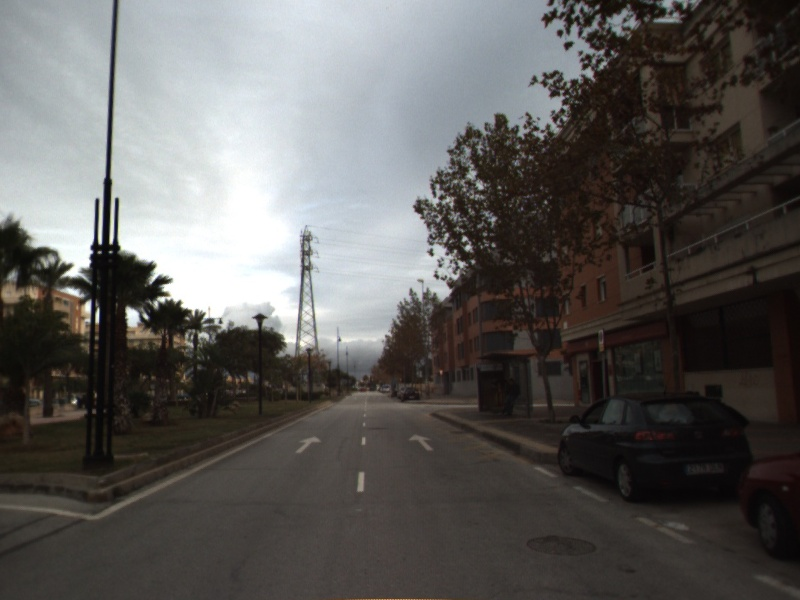STRAIGHT: (293, 434, 324, 455), (407, 432, 436, 453)
